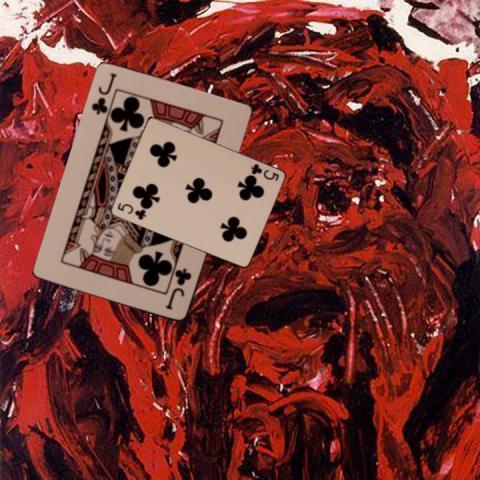5c: (114, 200, 147, 222), (247, 161, 280, 182)
Jc: (164, 265, 194, 312), (89, 70, 118, 117)
